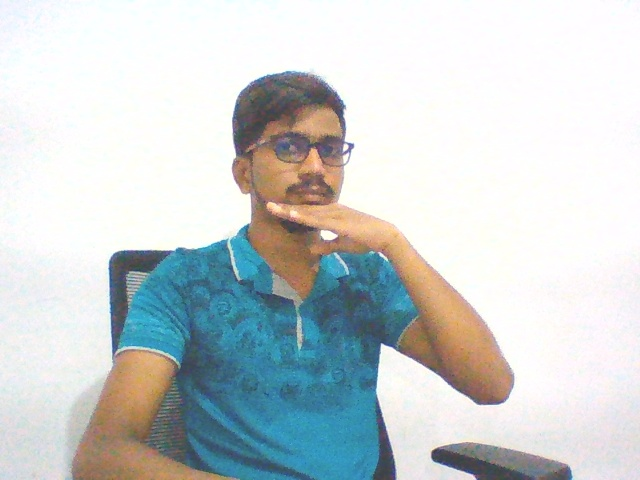elephant: (259, 192, 419, 265)
